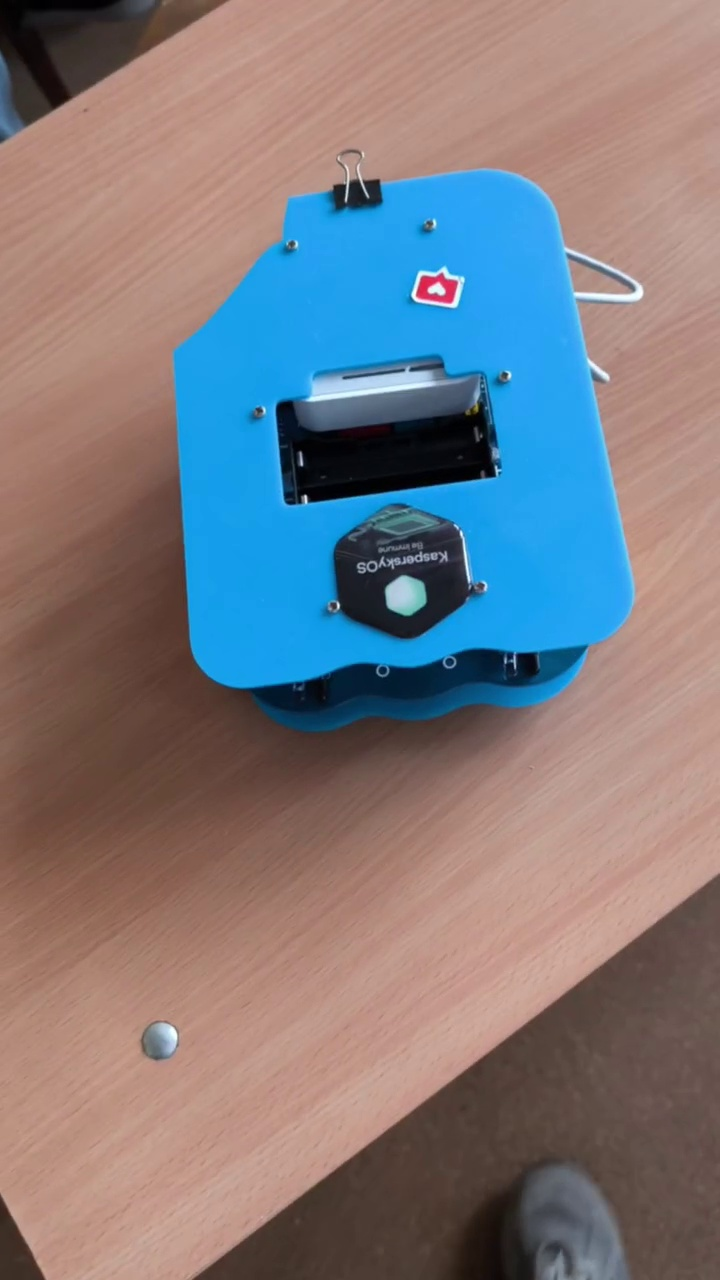robot: (167, 145, 648, 734)
